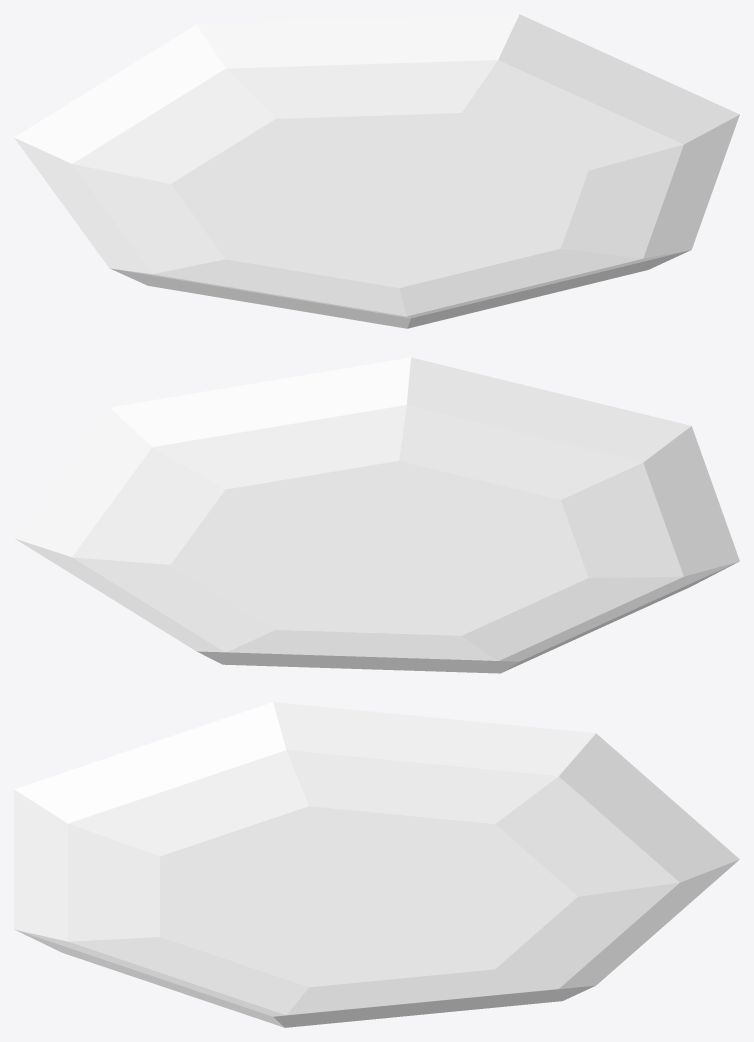
File: Plate.fbx
The picture shows the model from 3 angles, top to bottom: view 1: azimuth 30°, elevation 25°; view 2: azimuth 150°, elevation 25°; view 3: azimuth 270°, elevation 25°; orthographic projection. The views are drawn at different scales.
Parts seen in each view (by area): view 1: Cylinder; view 2: Cylinder; view 3: Cylinder.
Boxes of the visible parts, <box> form: Cylinder: <box>14,14,739,328</box>; Cylinder: <box>14,357,739,673</box>; Cylinder: <box>14,702,739,1027</box>.
Size of the model in its own units: 195 by 14.34 by 190.
Materials: 1 (1 with a texture image).
